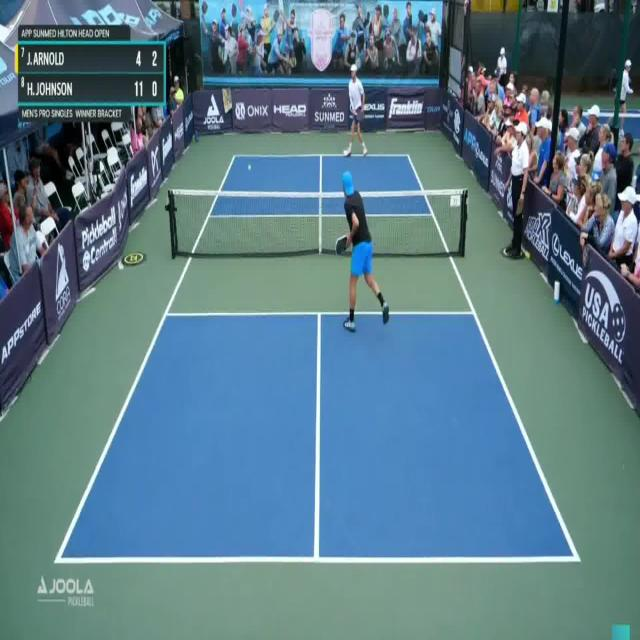Court: (54, 155, 579, 567)
ball: (246, 161, 253, 174)
